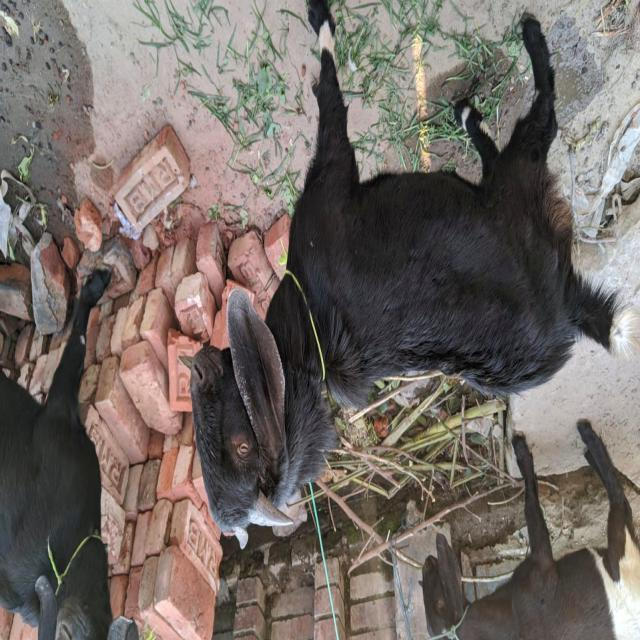Goat: (189, 2, 639, 551), (1, 267, 140, 640), (419, 420, 640, 640)
